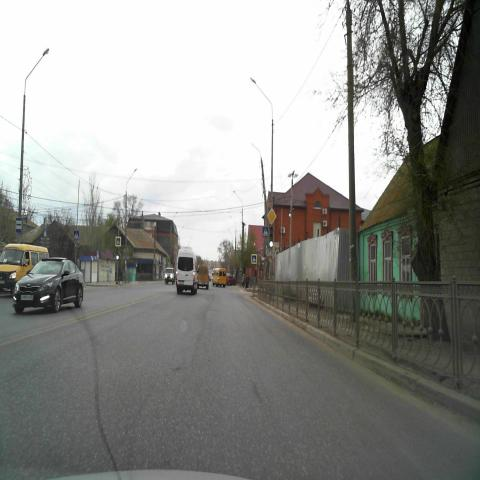5_16: (15, 217, 22, 233)
